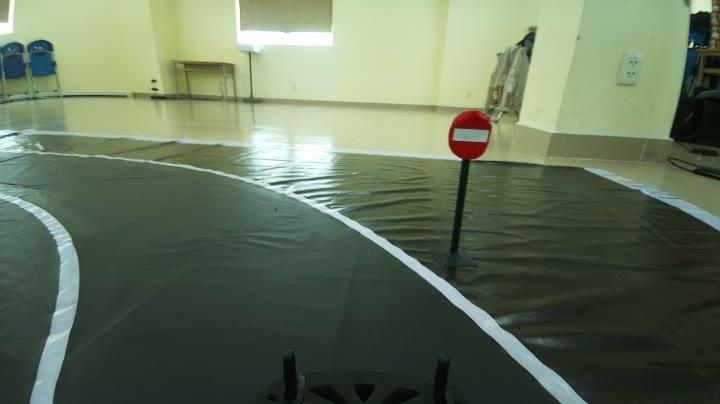no_entry: (436, 104, 498, 162)
